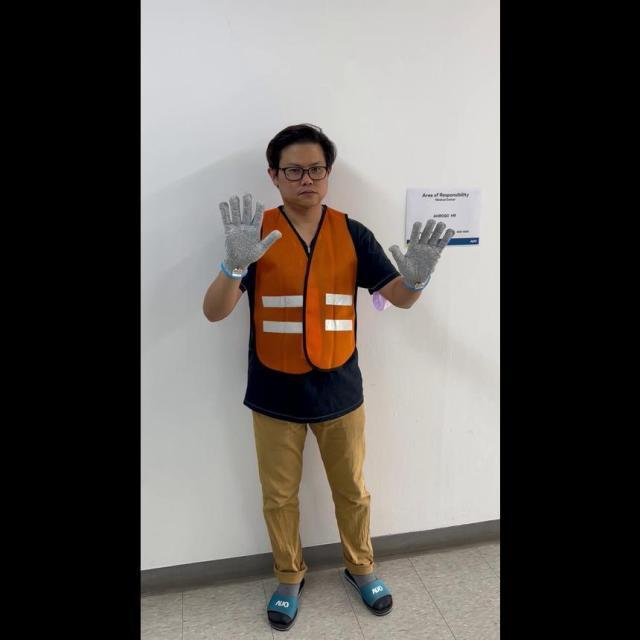gloved_hand: (214, 187, 279, 277), (388, 213, 451, 288)
